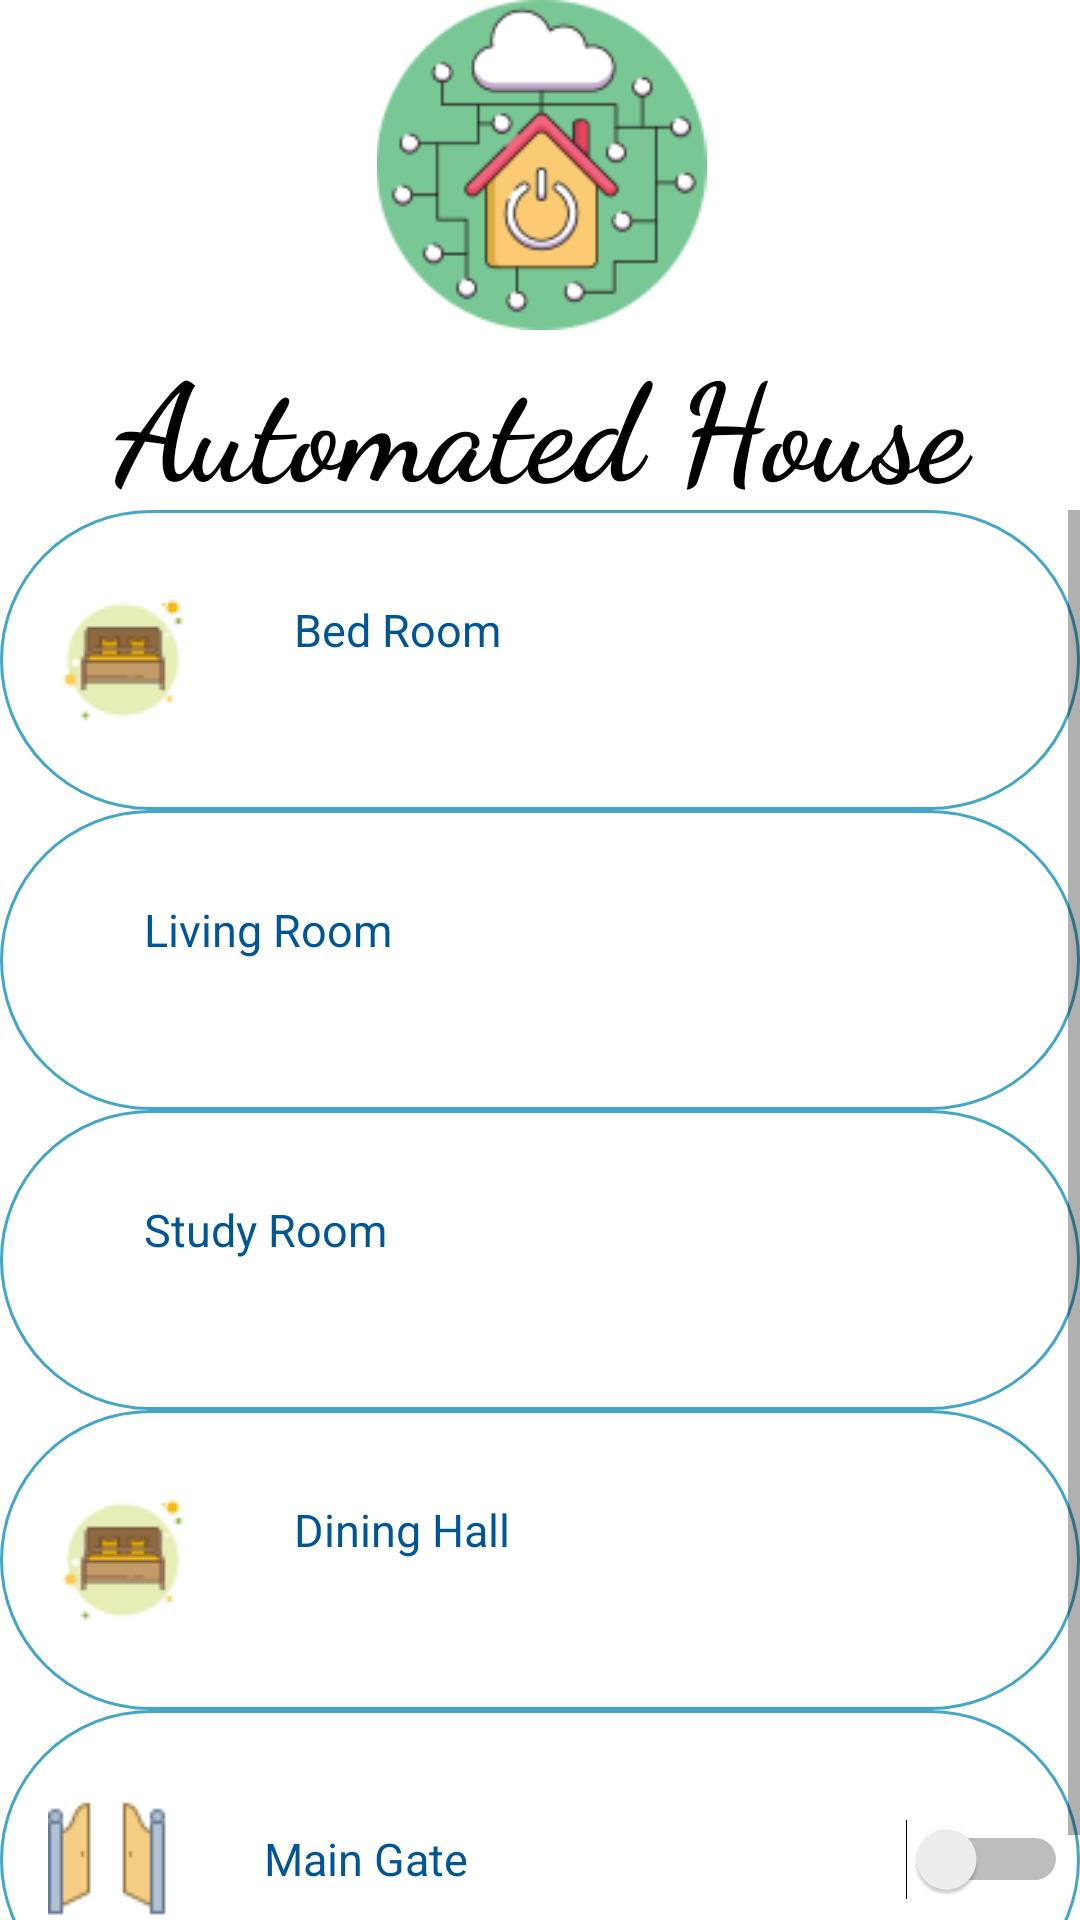

Locate icon controls on the screen. Image size 1080*1920, boxes as (x1, y1, x2, y2).
gatefront: (48, 1802, 166, 1915)
smarthome: (377, 0, 707, 330)
